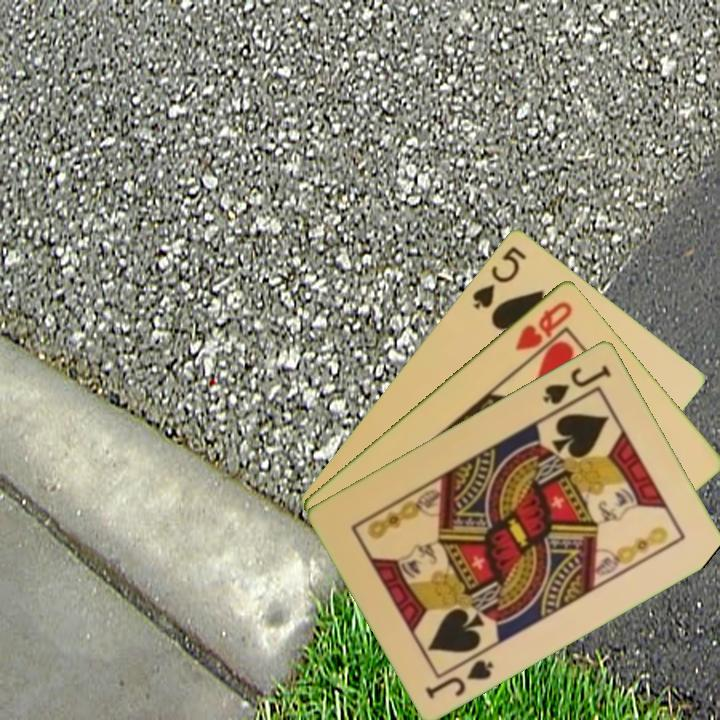5s: (468, 242, 529, 312)
Js: (421, 655, 497, 702), (539, 361, 615, 407)
Qh: (512, 297, 576, 353)
